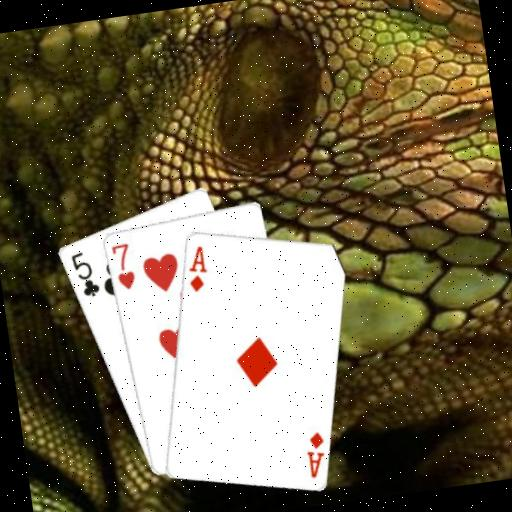5C: (66, 246, 102, 300)
7H: (108, 239, 138, 292)
AD: (181, 242, 211, 295), (300, 427, 330, 480)
